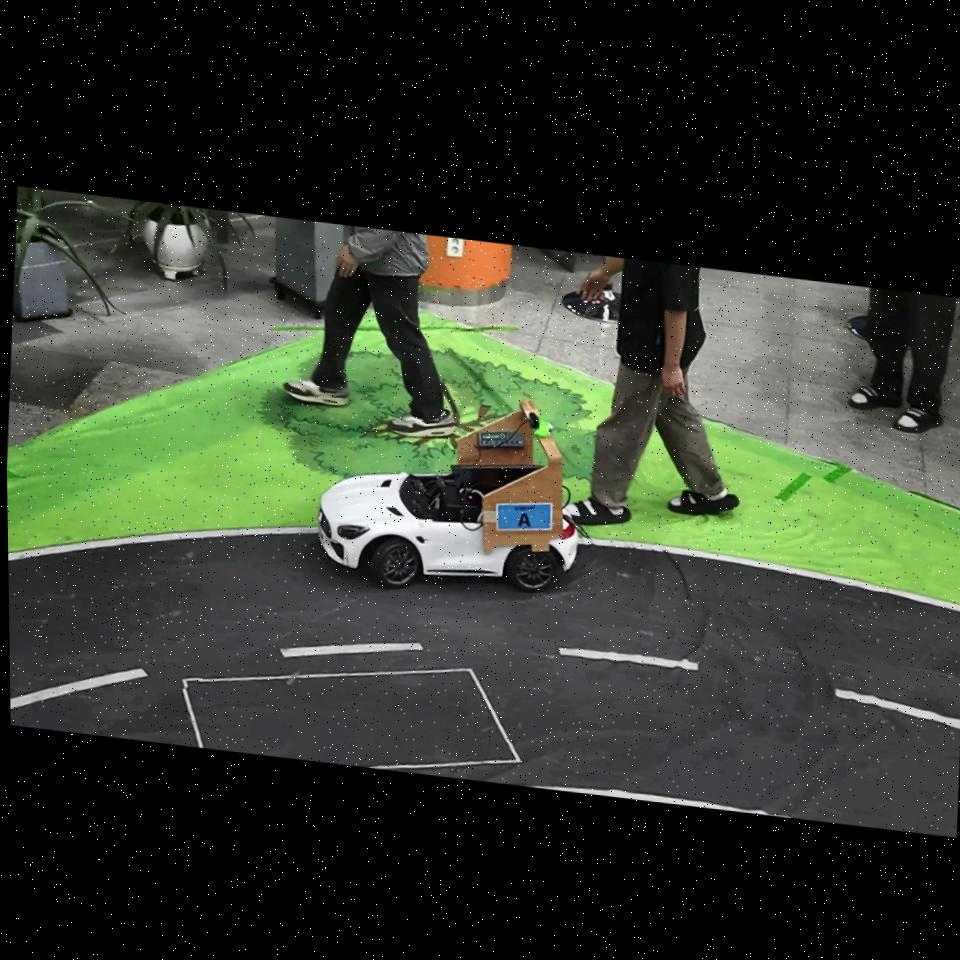broken_line: (10, 668, 147, 709), (835, 689, 960, 730), (558, 648, 699, 671), (280, 642, 423, 658)
